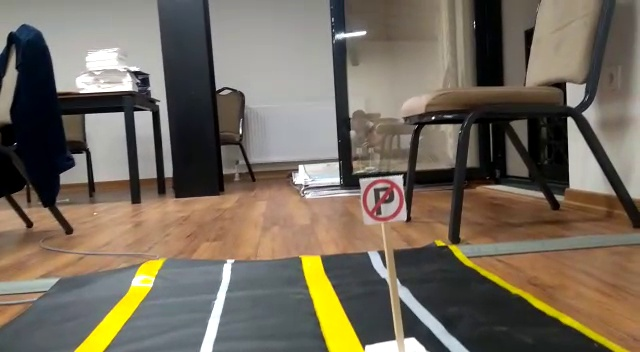park_yapilmaz: (360, 175, 405, 220)
